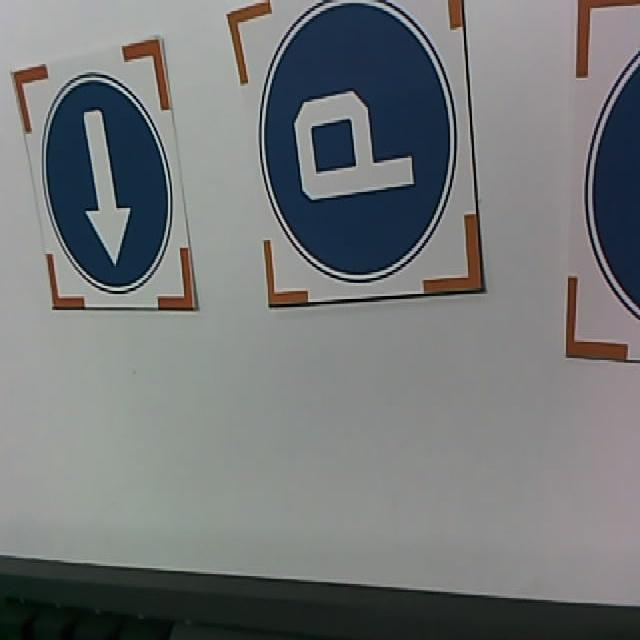parking: (259, 0, 454, 280)
straight: (43, 73, 175, 295)
